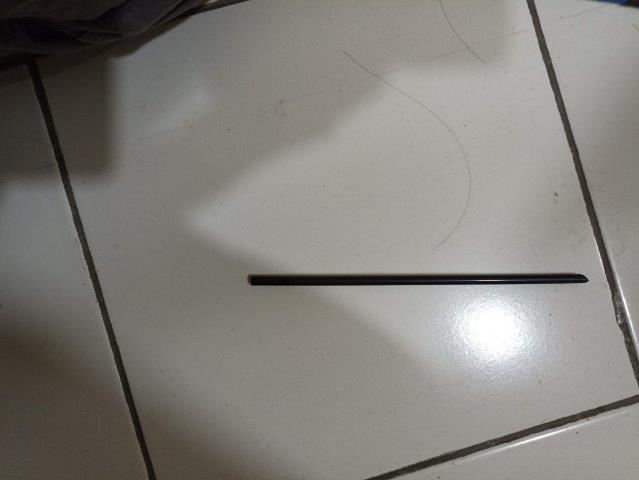sedotan: (250, 274, 589, 286)
